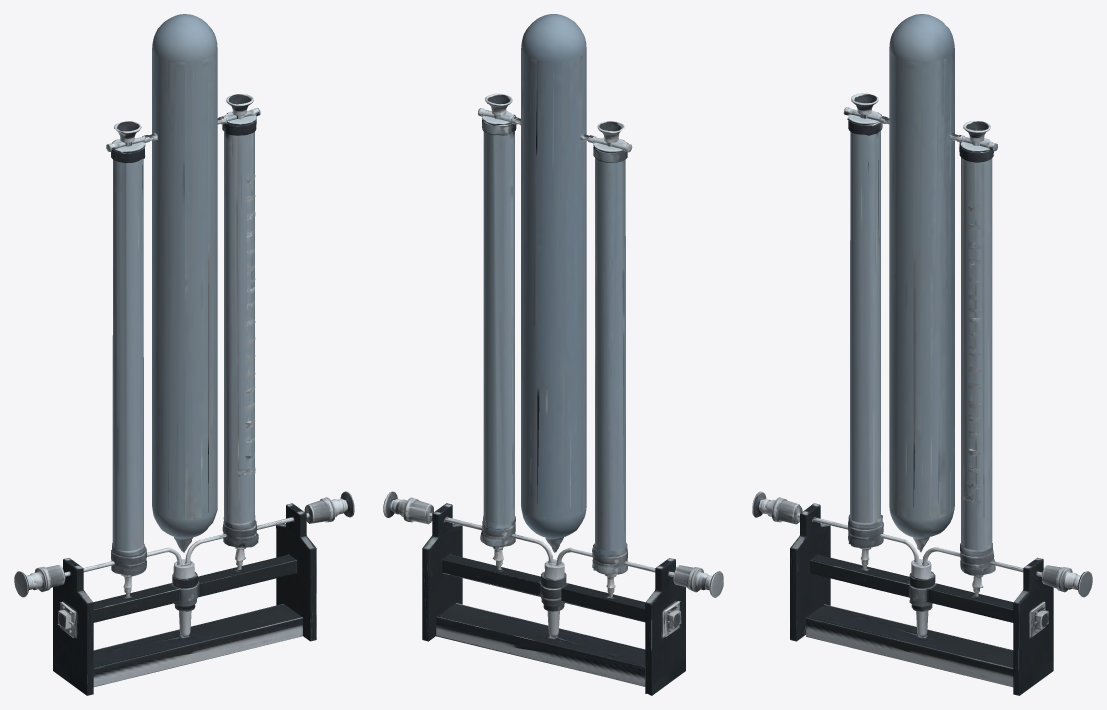
File: hofmann-voltameter.glb
3 views of the same model, side by side, from view 1: azimuth 30°, elevation 25°; view 2: azimuth 150°, elevation 25°; view 3: azimuth 330°, elevation 25° (orthographic).
Size of the model in its own units: 0.5112 by 0.9517 by 0.0933.
1 material, 1 textured.
